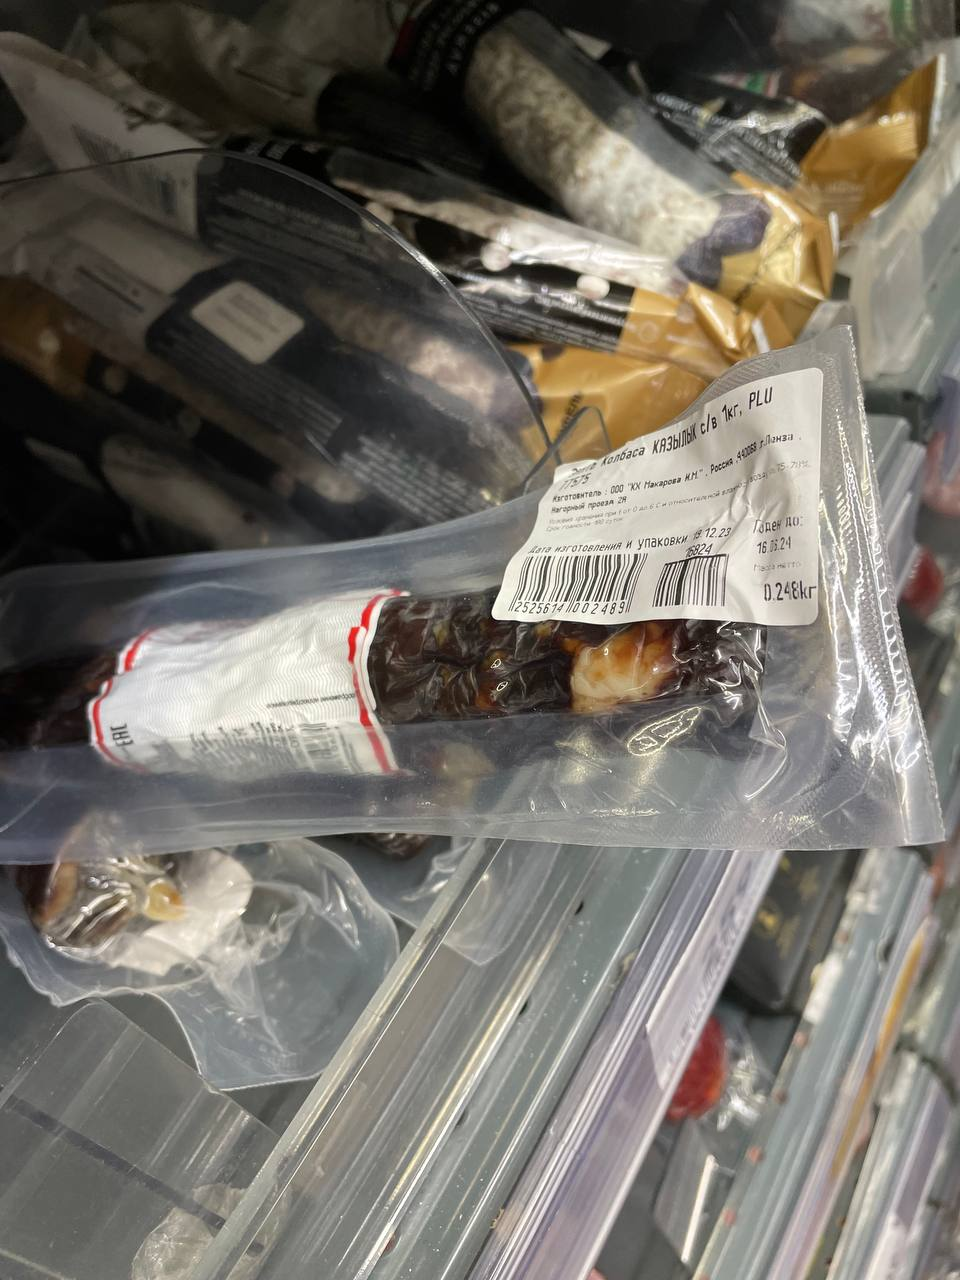1d: (511, 552, 648, 603), (651, 554, 731, 609), (297, 722, 343, 776)
